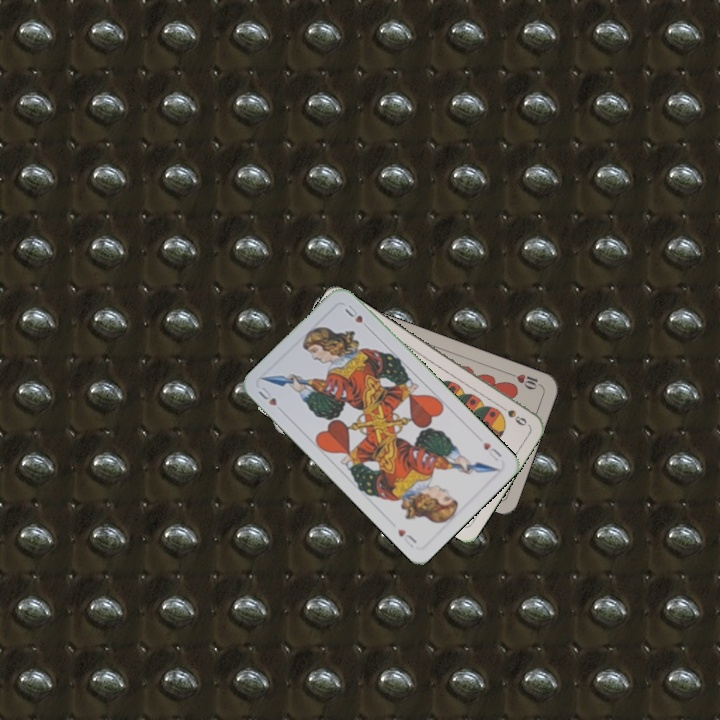H10: (505, 369, 544, 392)
HU: (479, 438, 504, 464), (254, 383, 279, 409)
S9: (494, 400, 530, 428)
